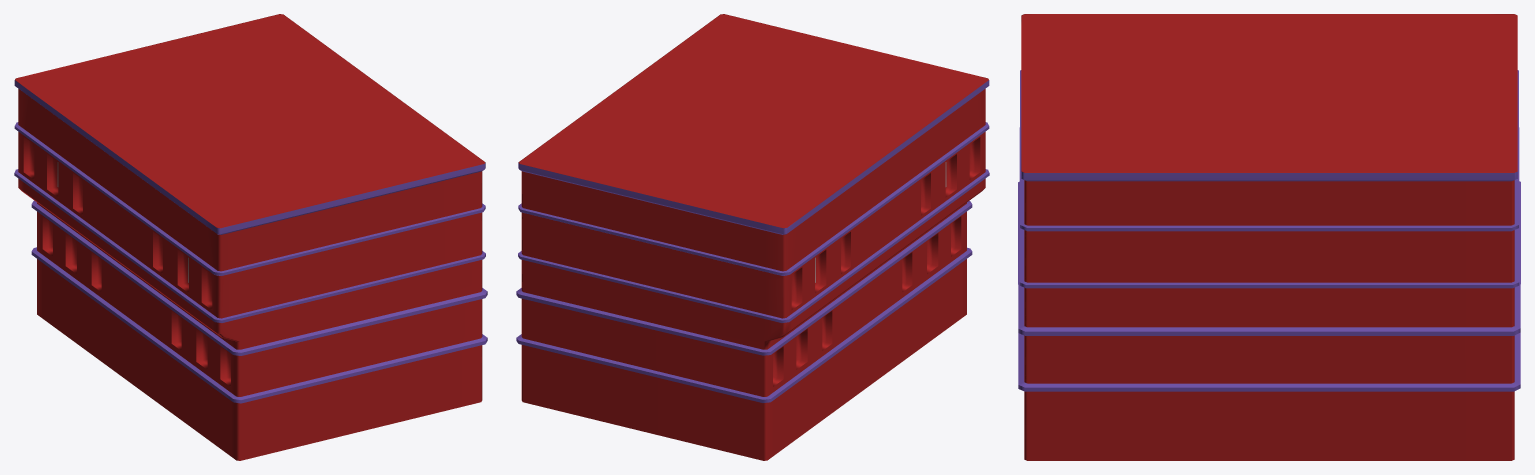
Rendered from SM_Building_Square_Big_01.fbx.
The picture shows the model from 3 angles, left to right: view 1: azimuth 30°, elevation 25°; view 2: azimuth 150°, elevation 25°; view 3: azimuth 270°, elevation 25°; orthographic projection. The views are drawn at different scales.
Parts seen in each view (by area): view 1: SM_Building_Square_Big_01; view 2: SM_Building_Square_Big_01; view 3: SM_Building_Square_Big_01.
Boxes of the visible parts, bbox=[...] form: SM_Building_Square_Big_01: bbox=[14, 14, 487, 460]; SM_Building_Square_Big_01: bbox=[516, 14, 989, 460]; SM_Building_Square_Big_01: bbox=[1018, 14, 1520, 460].
Size of the model in its own units: 2139 by 1792 by 2822.
